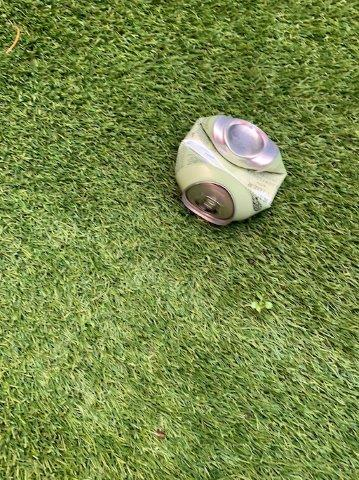kaleng: (176, 116, 286, 225)
